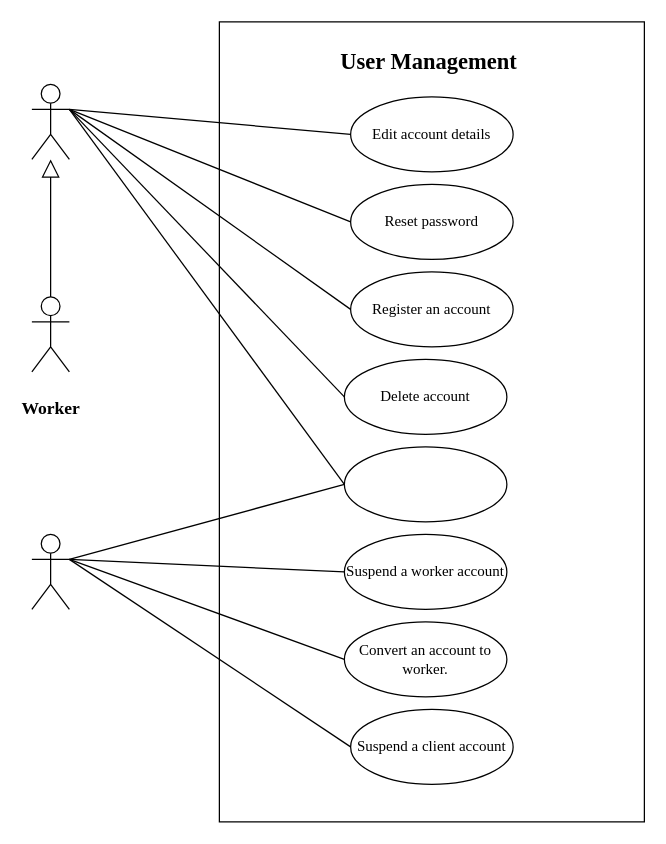
This 666x844 diagram has some shape labels left out. Here are the shapes that lost their labels. From the top down, the centre of each, then its label:
At (x=50, y=121): "Client".
At (x=425, y=484): "Login".
At (x=50, y=571): "Admin".
